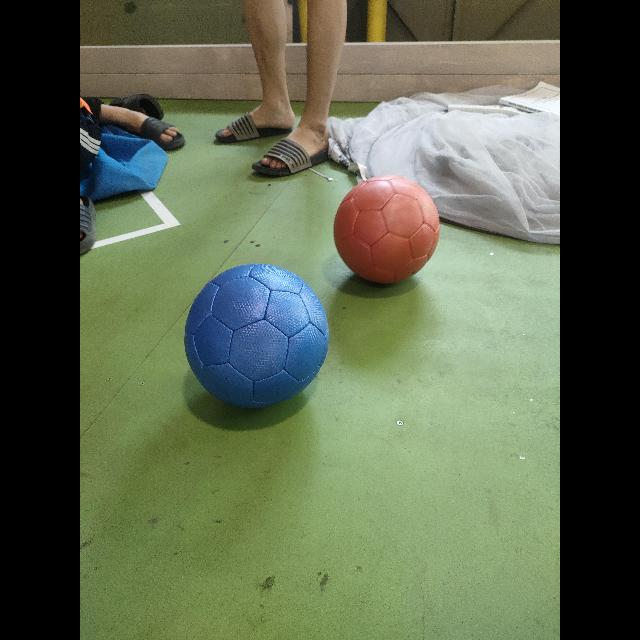B: (184, 266, 328, 409)
R: (334, 176, 440, 282)
